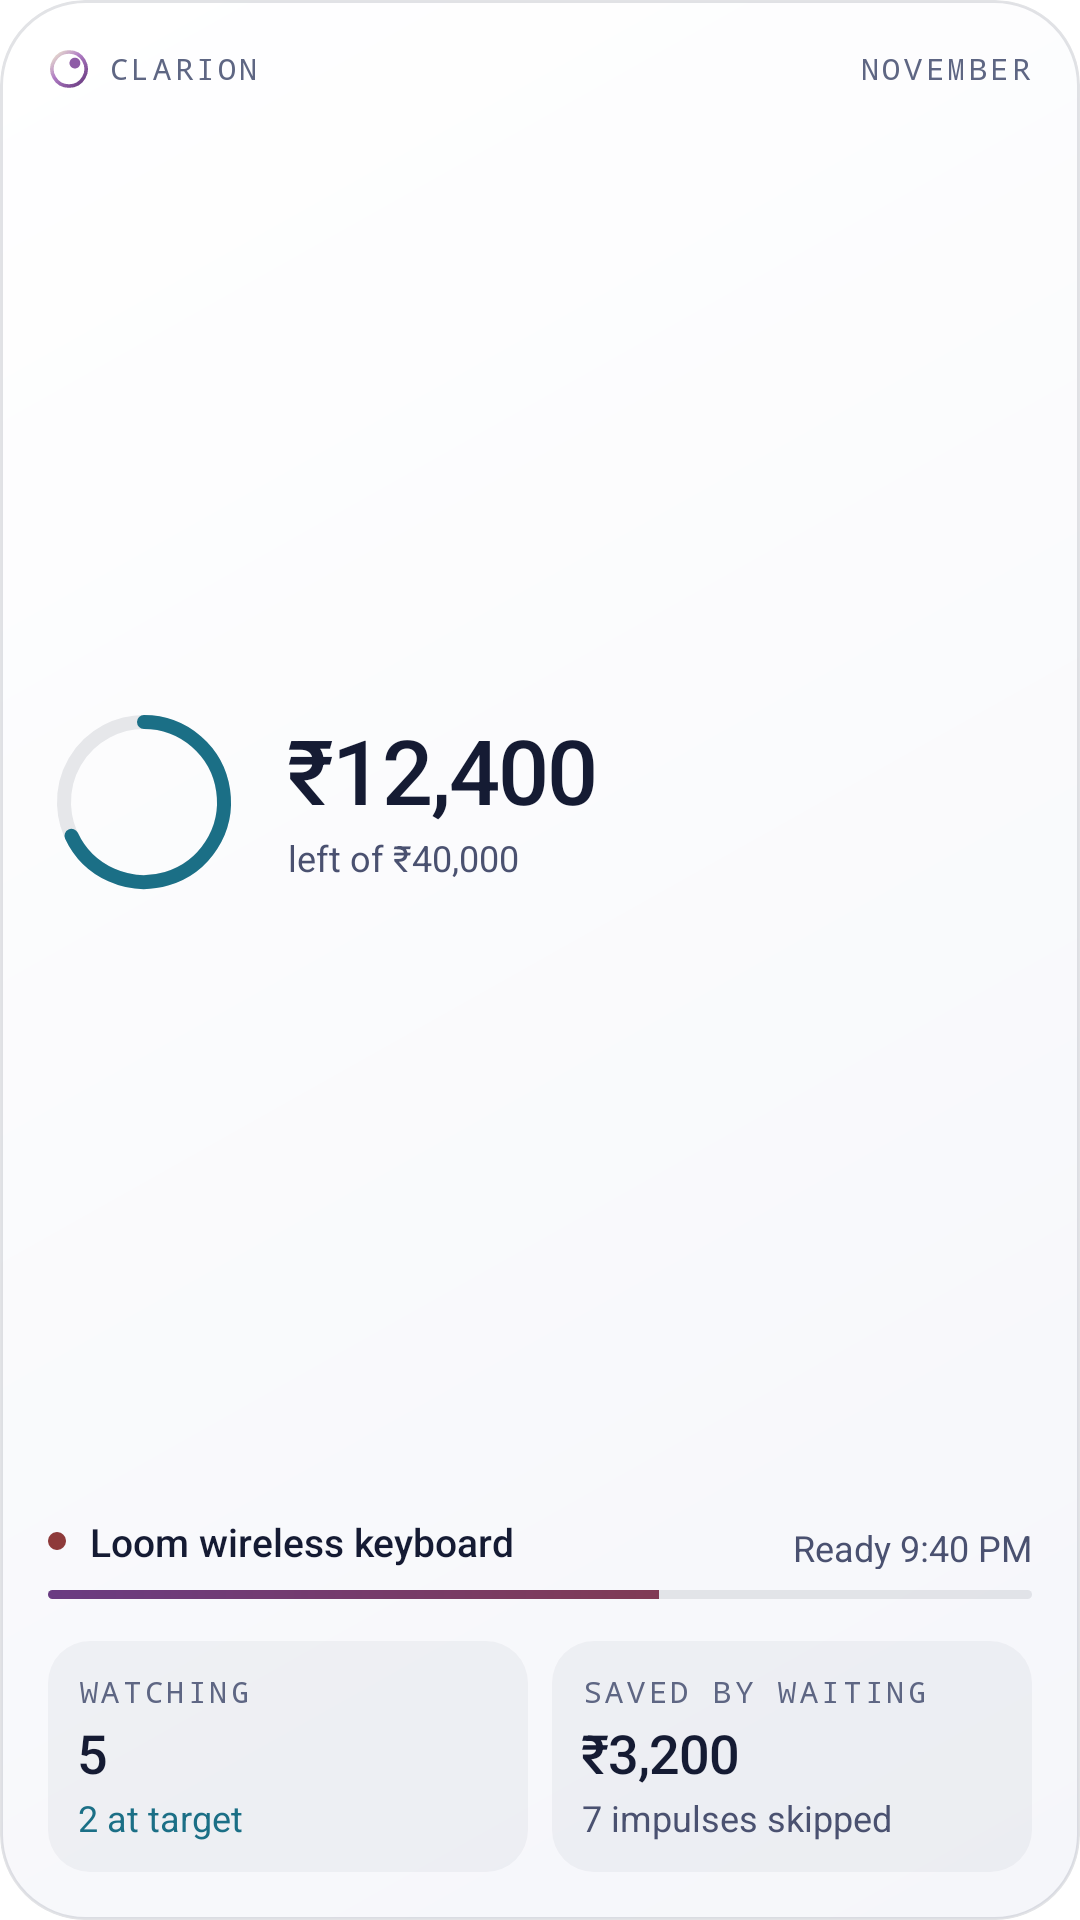

Icons on this 1080×1920 Android screen, each with the point to tap as point (x, y):
widget lens: point (69, 69)
widget ring: point (147, 802)
